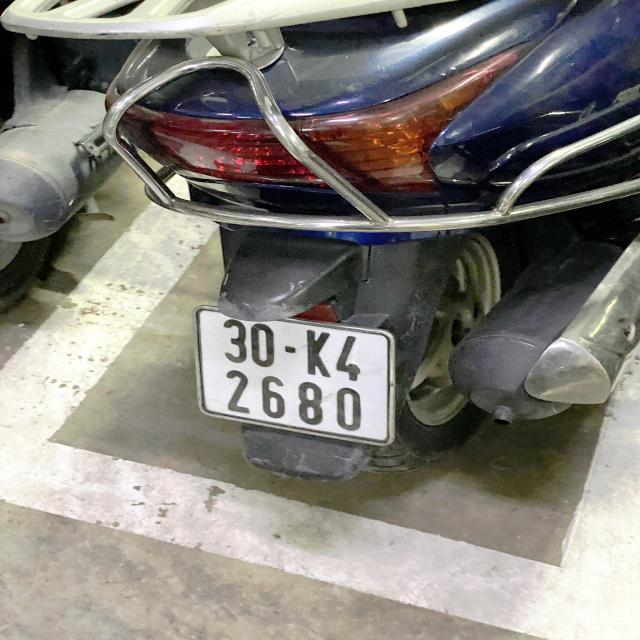license_plate: (197, 311, 391, 448)
